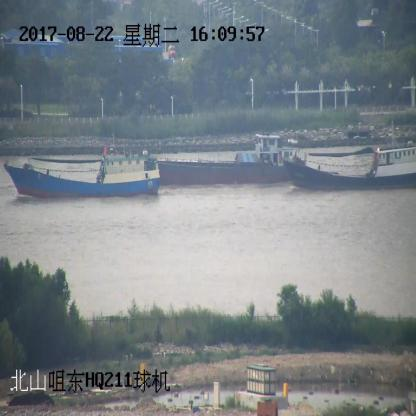Fishing Boat: (4, 144, 162, 198), (291, 139, 415, 189)
